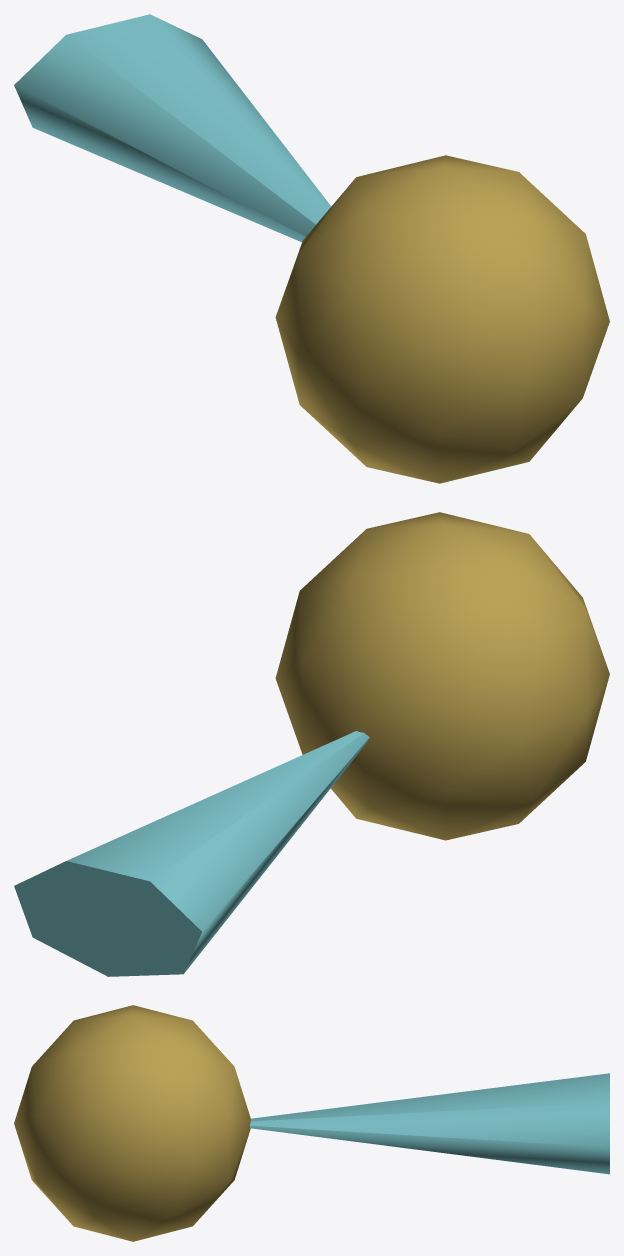
File: wpn_r_03.glb
The picture shows the model from 3 angles, top to bottom: view 1: azimuth 30°, elevation 25°; view 2: azimuth 150°, elevation 25°; view 3: azimuth 270°, elevation 25°; orthographic projection. The views are drawn at different scales.
Parts seen in each view (by area): view 1: projectile_core, projectile_trail; view 2: projectile_core, projectile_trail; view 3: projectile_core, projectile_trail.
Part boxes in pixels (bbox=[...]): projectile_core: bbox=[275, 155, 609, 483]; projectile_trail: bbox=[14, 14, 331, 242]; projectile_core: bbox=[275, 512, 609, 840]; projectile_trail: bbox=[14, 731, 369, 976]; projectile_core: bbox=[14, 1005, 250, 1241]; projectile_trail: bbox=[249, 1073, 609, 1174].
Size of the model in its own units: 0.3 by 0.3 by 0.75.
